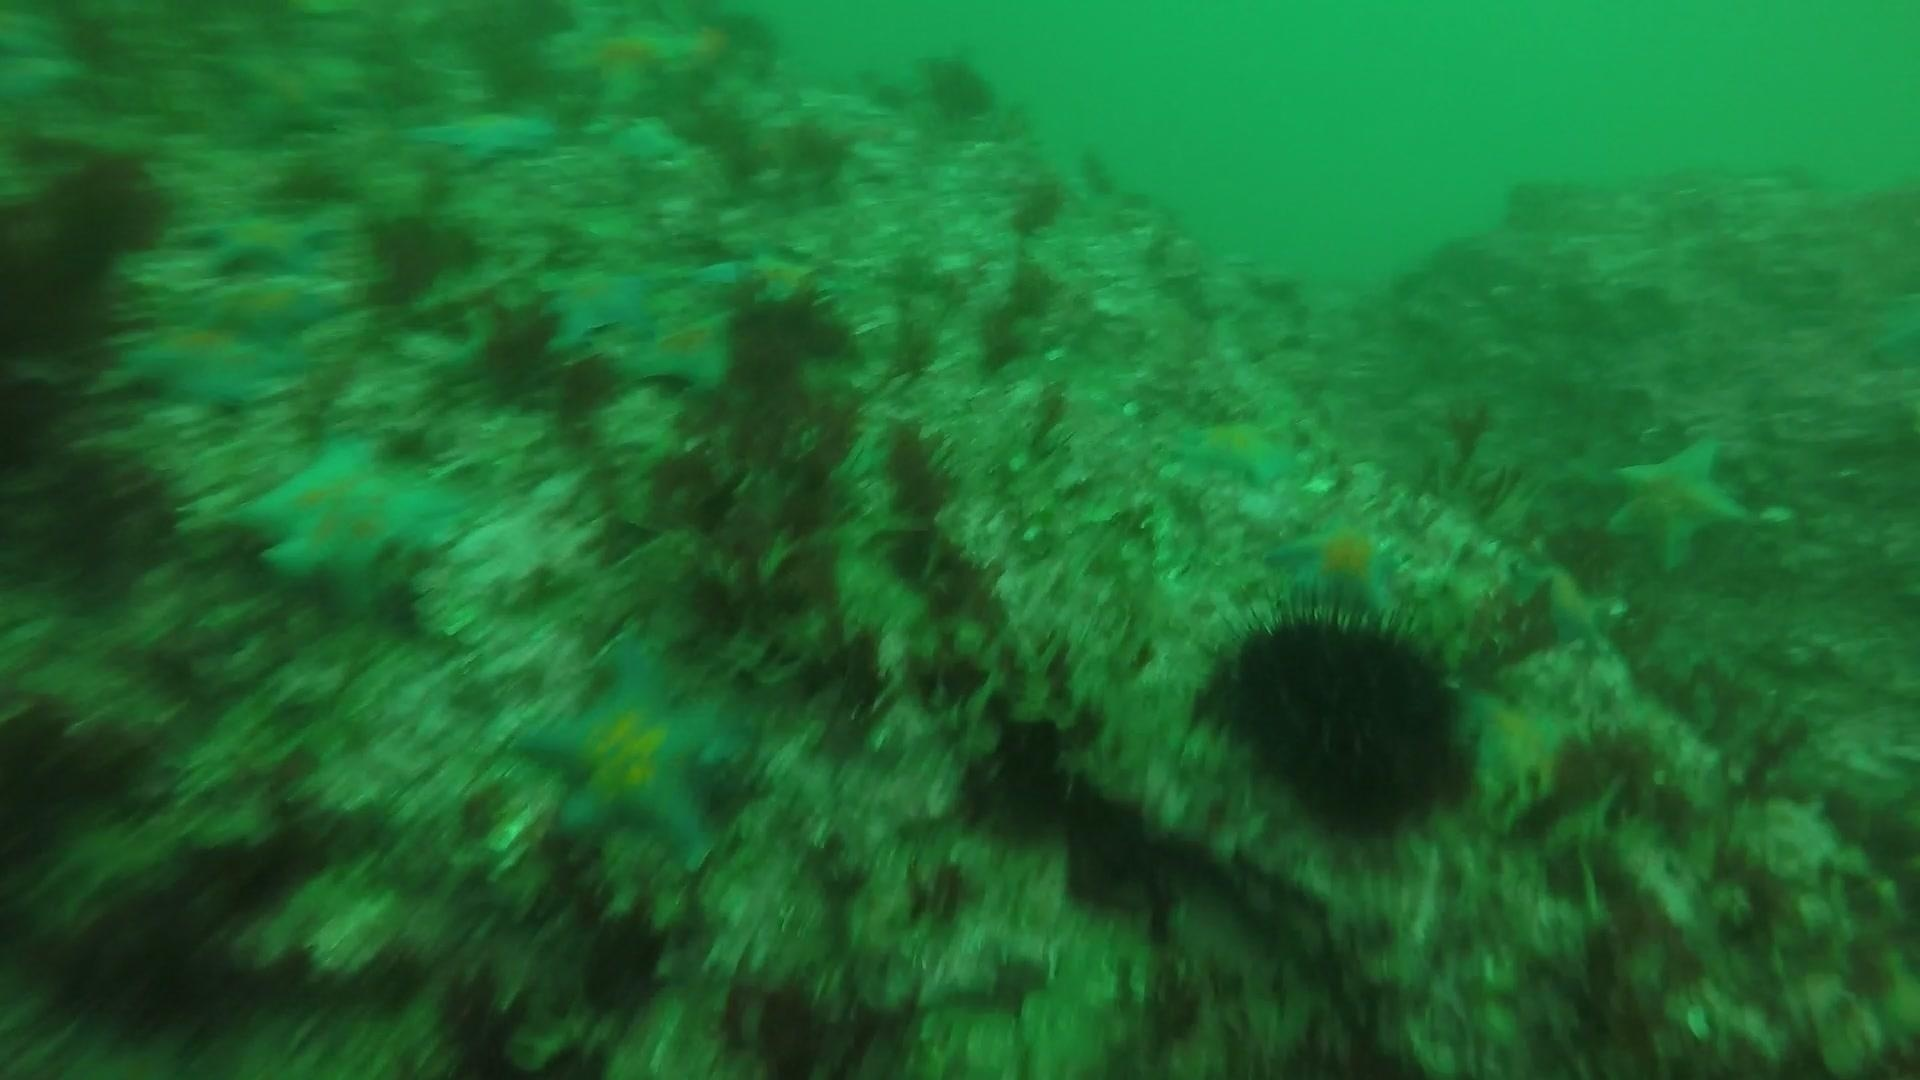echinus: (1201, 603, 1473, 841), (353, 206, 484, 309), (914, 49, 1002, 129)
starfish: (512, 632, 744, 872), (232, 429, 468, 615), (1600, 429, 1754, 575), (103, 311, 311, 415), (541, 11, 715, 121), (1447, 675, 1581, 811), (1265, 508, 1410, 624), (208, 38, 363, 142), (1502, 550, 1627, 661), (530, 261, 665, 356), (617, 301, 745, 397), (187, 204, 343, 281), (1164, 411, 1309, 493), (198, 273, 348, 348), (404, 102, 562, 171), (585, 111, 698, 171)
